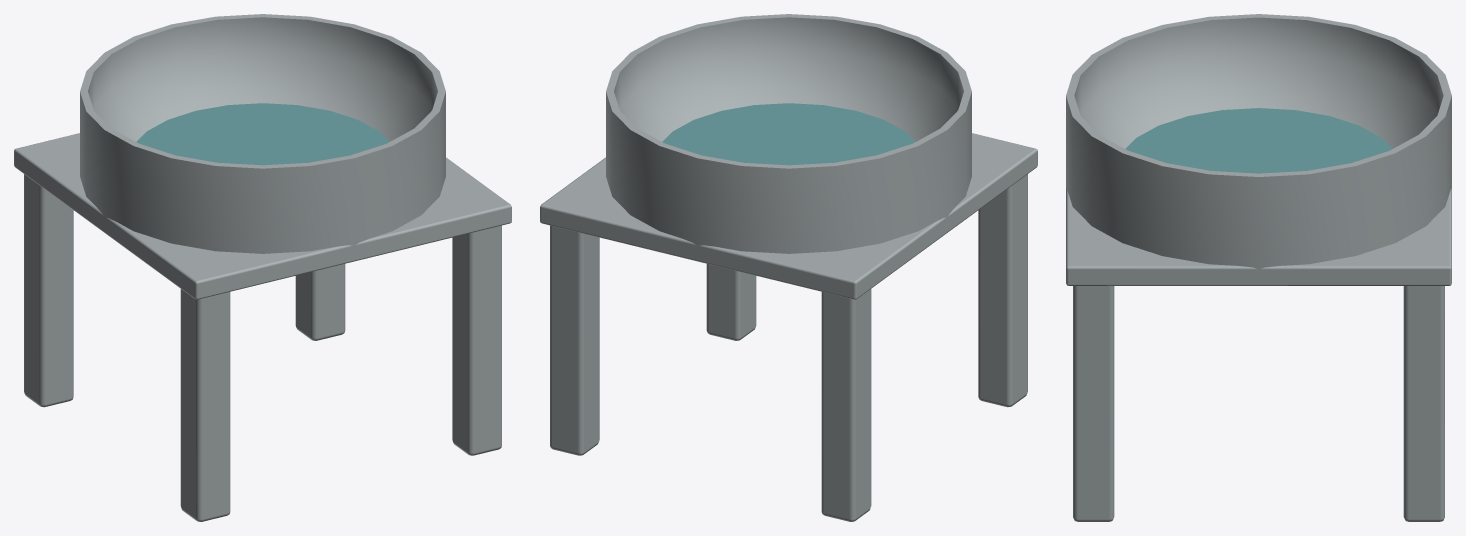
The model's file is creature-husbandry-and-transport-water-bowl-stand-5779973e__23997.glb.
3 renders of one model, left to right at view 1: azimuth 30°, elevation 25°; view 2: azimuth 150°, elevation 25°; view 3: azimuth 270°, elevation 25°, orthographic. The views are drawn at different scales.
Parts seen in each view (by area): view 1: water-bowl-stand; view 2: water-bowl-stand; view 3: water-bowl-stand.
Boxes of the visible parts, x1,y1,x2,y2 form: water-bowl-stand: [14, 14, 511, 521]; water-bowl-stand: [540, 14, 1037, 521]; water-bowl-stand: [1066, 14, 1451, 521].
Size of the model in its own units: 0.7 by 0.7 by 0.7.
